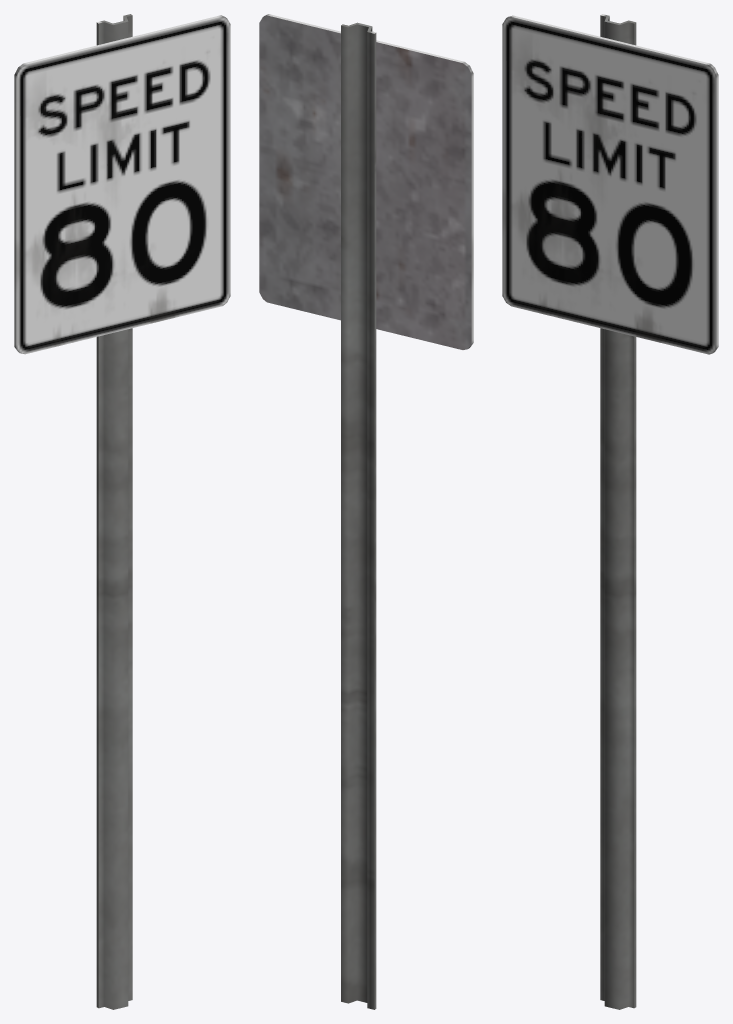
The model's file is Sign_SpeedLimit.fbx.
The picture shows the model from 3 angles, left to right: view 1: azimuth 30°, elevation 25°; view 2: azimuth 150°, elevation 25°; view 3: azimuth 330°, elevation 25°; orthographic projection.
Visible parts, largest first — view 1: Sign_SpeedLimit; view 2: Sign_SpeedLimit; view 3: Sign_SpeedLimit.
Boxes of the visible parts, left/top/right/bottom form: Sign_SpeedLimit: left=14, top=14, right=230, bottom=1009; Sign_SpeedLimit: left=259, top=14, right=473, bottom=1009; Sign_SpeedLimit: left=502, top=14, right=718, bottom=1009.
Size of the model in its own units: 52.86 by 232 by 4.15.
